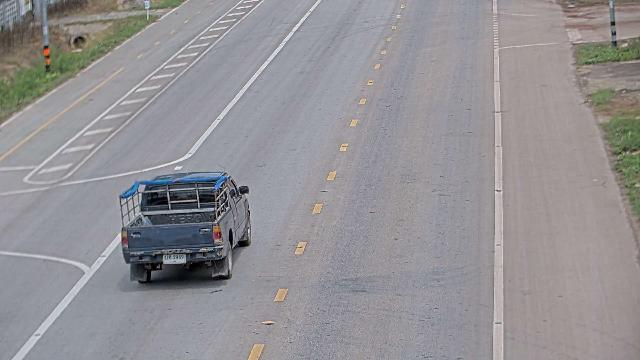pickup-truck: (117, 170, 252, 283)
